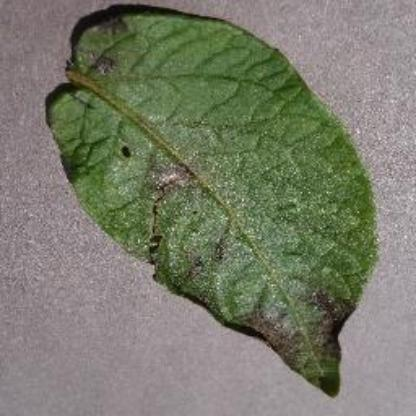Late-Blight: (44, 8, 378, 400)
